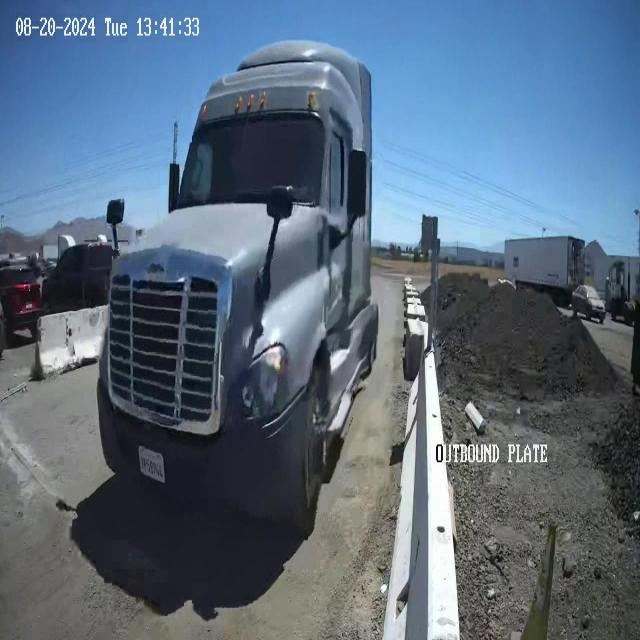TRUCK_OUT: (96, 38, 379, 532)
